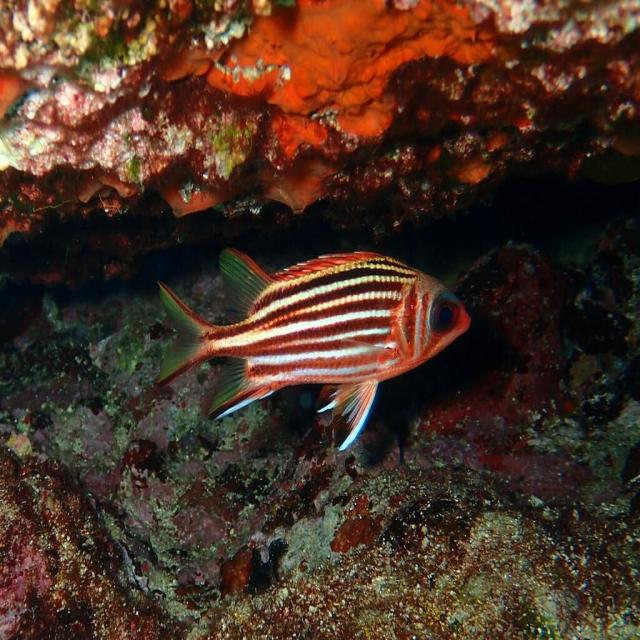Asker Baligi: (130, 210, 502, 468)
